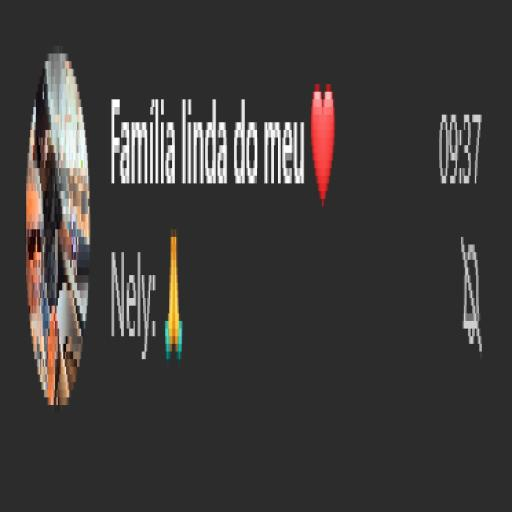chat: (3, 23, 509, 466)
